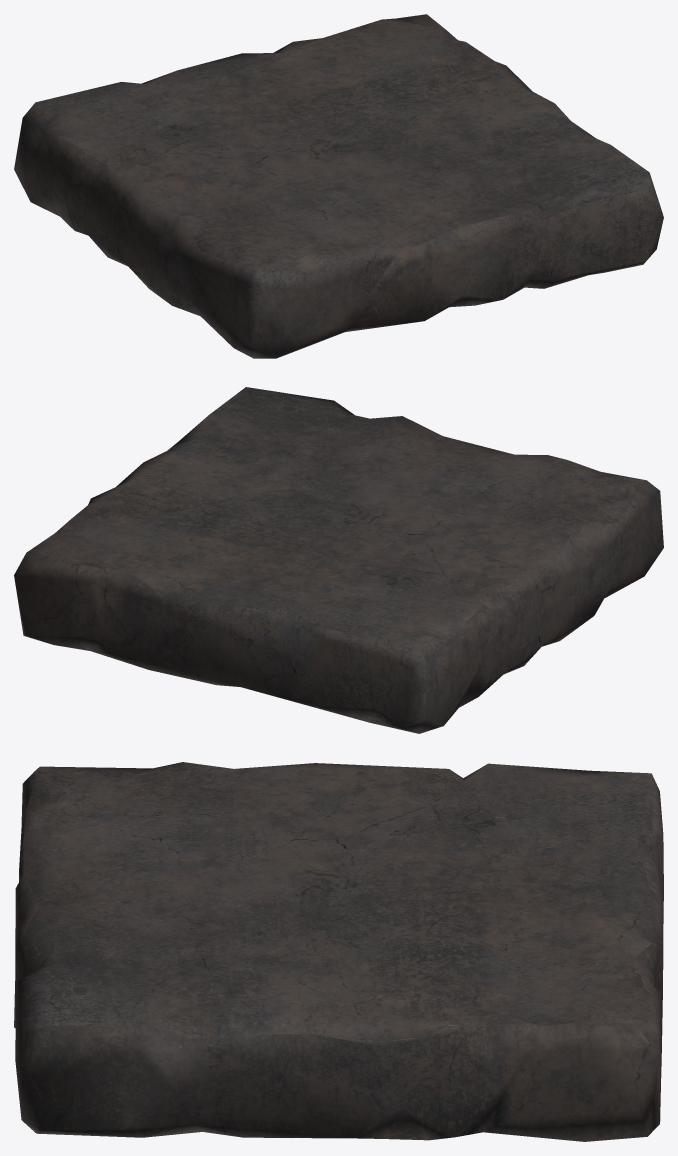
The model's file is SM_Slab2.fbx.
3 views of the same model, one above another, from view 1: azimuth 30°, elevation 25°; view 2: azimuth 150°, elevation 25°; view 3: azimuth 270°, elevation 25° (orthographic). The views are drawn at different scales.
Visible parts, largest first — view 1: SM_Slab2_LOD0; view 2: SM_Slab2_LOD0; view 3: SM_Slab2_LOD0.
Part boxes in pixels (<box>): SM_Slab2_LOD0: <box>14,14,663,358</box>; SM_Slab2_LOD0: <box>14,387,663,733</box>; SM_Slab2_LOD0: <box>14,762,663,1141</box>.
Size of the model in its own units: 154 by 153 by 30.19.
1 material, 1 textured.
